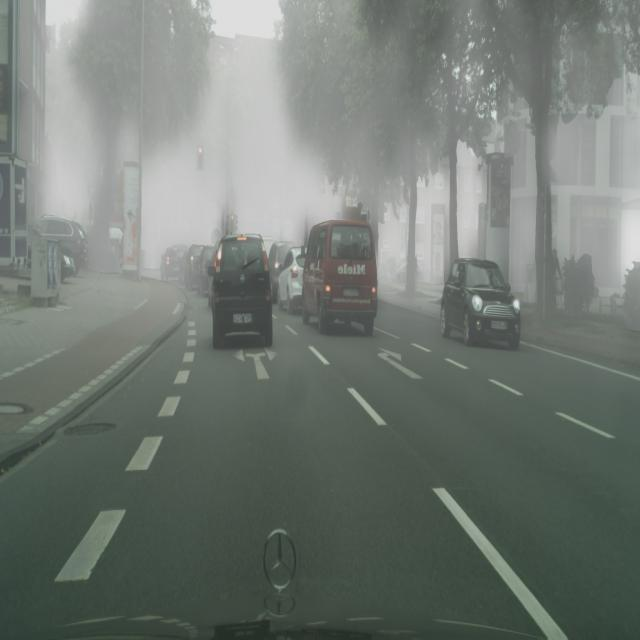bus: (301, 218, 378, 336), (209, 231, 273, 349), (440, 258, 522, 350), (31, 214, 87, 276), (276, 246, 307, 313), (266, 239, 293, 303), (196, 245, 214, 296), (160, 247, 185, 282), (184, 243, 203, 289)
